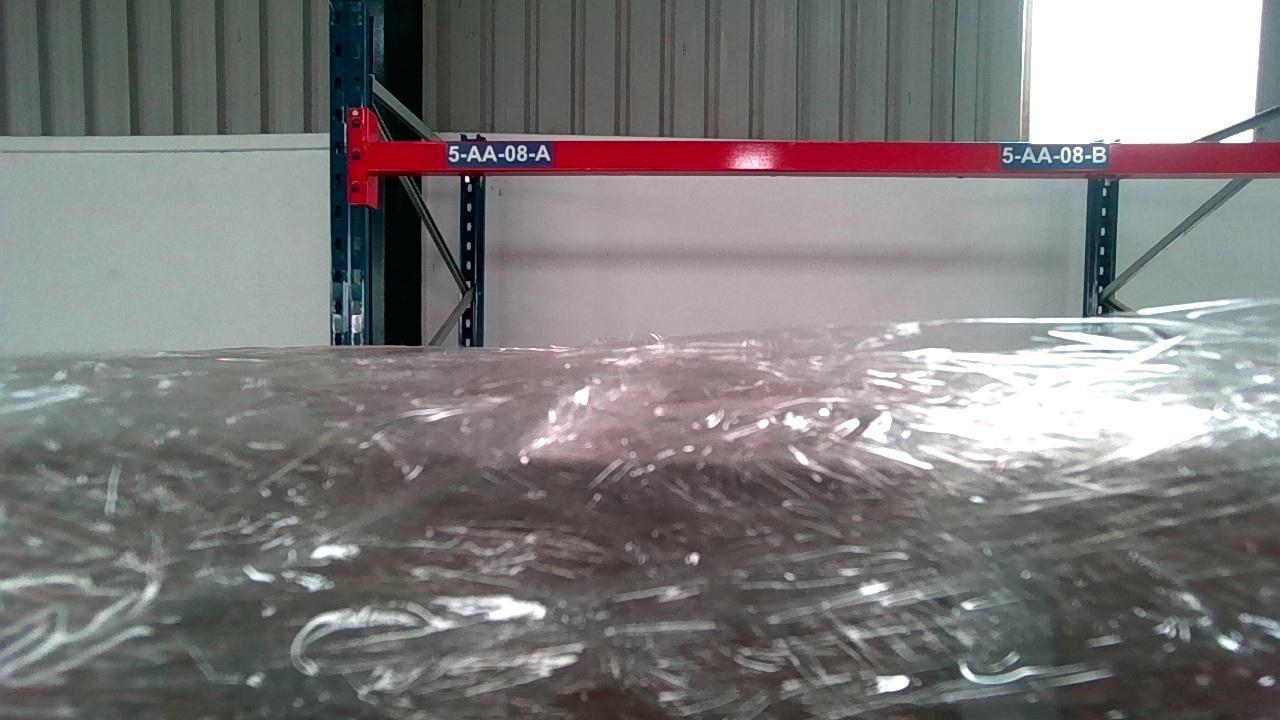h_rack: (375, 139, 1279, 175)
